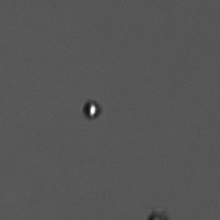Living Cell: (81, 99, 101, 119)
